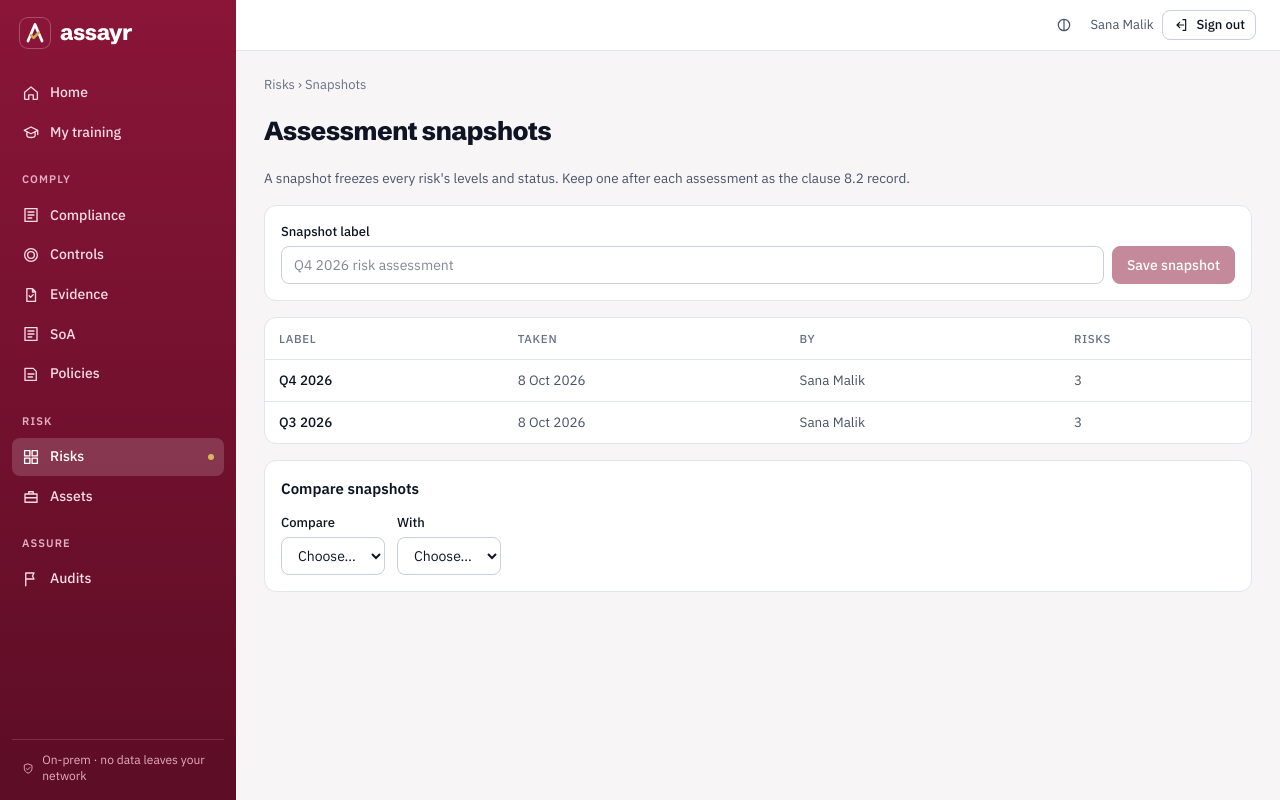
it: saves a snapshot and compares two
Type "Q1 2027" into the field labelled "Snapshot label".
click(692, 265); type("Q1 2027")  # box [281, 246, 1104, 284]
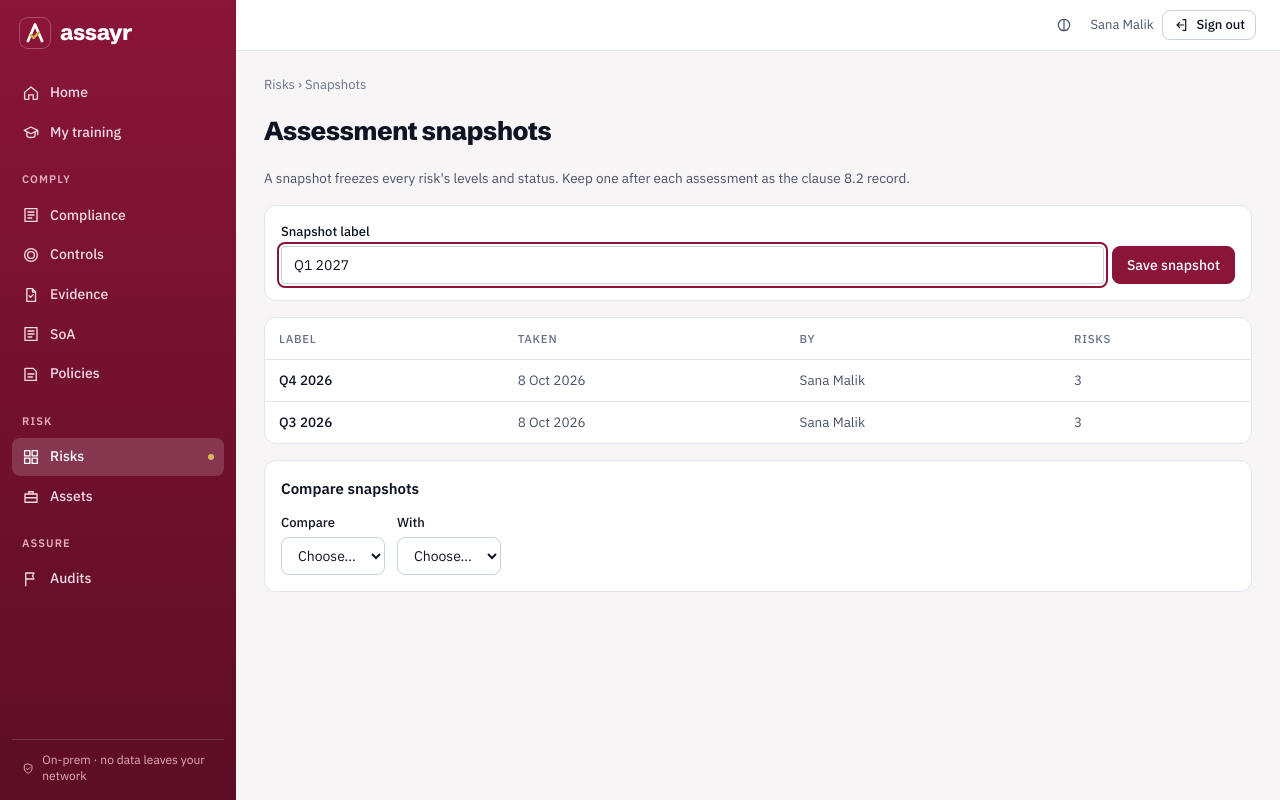
Click the button "Save snapshot".
click(1173, 265)  # box [1112, 246, 1235, 284]
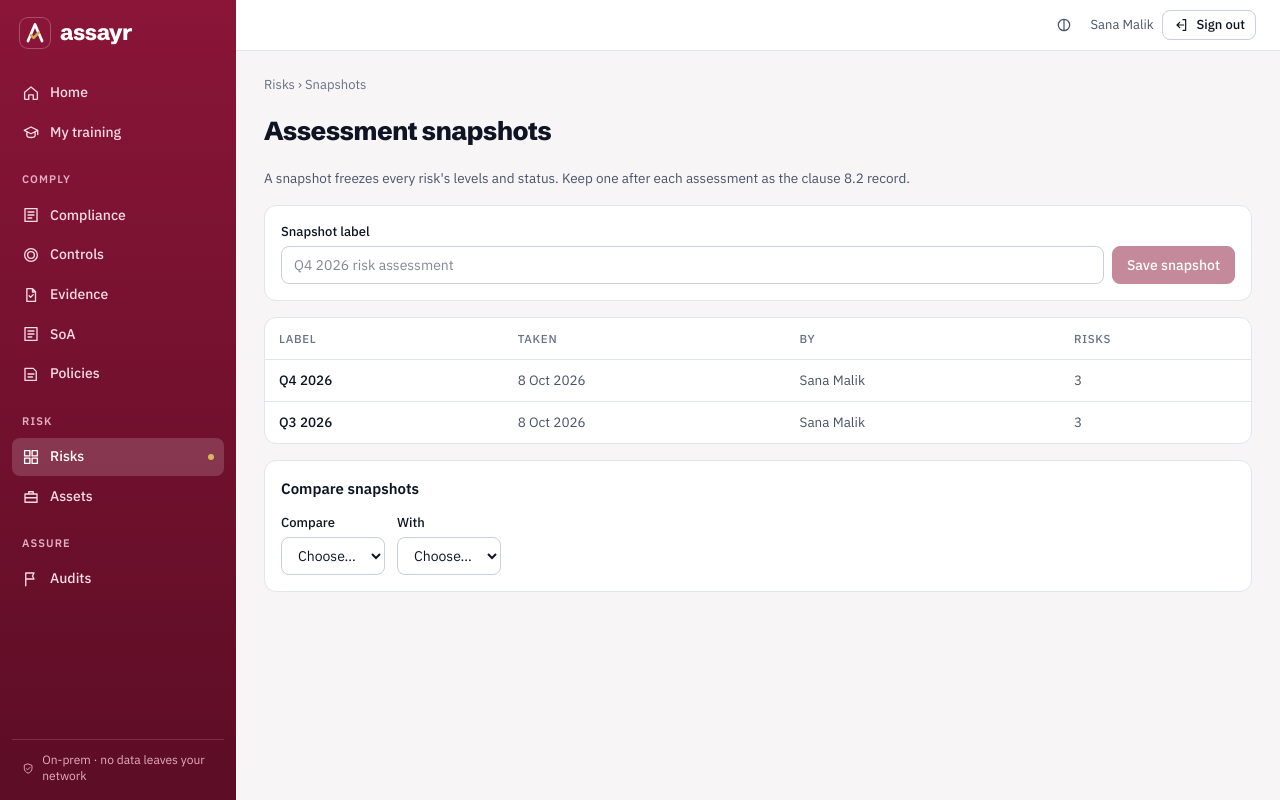
Select "Q3 2026" in the dropdown labelled "Compare" at (333, 556), box [281, 537, 385, 575]
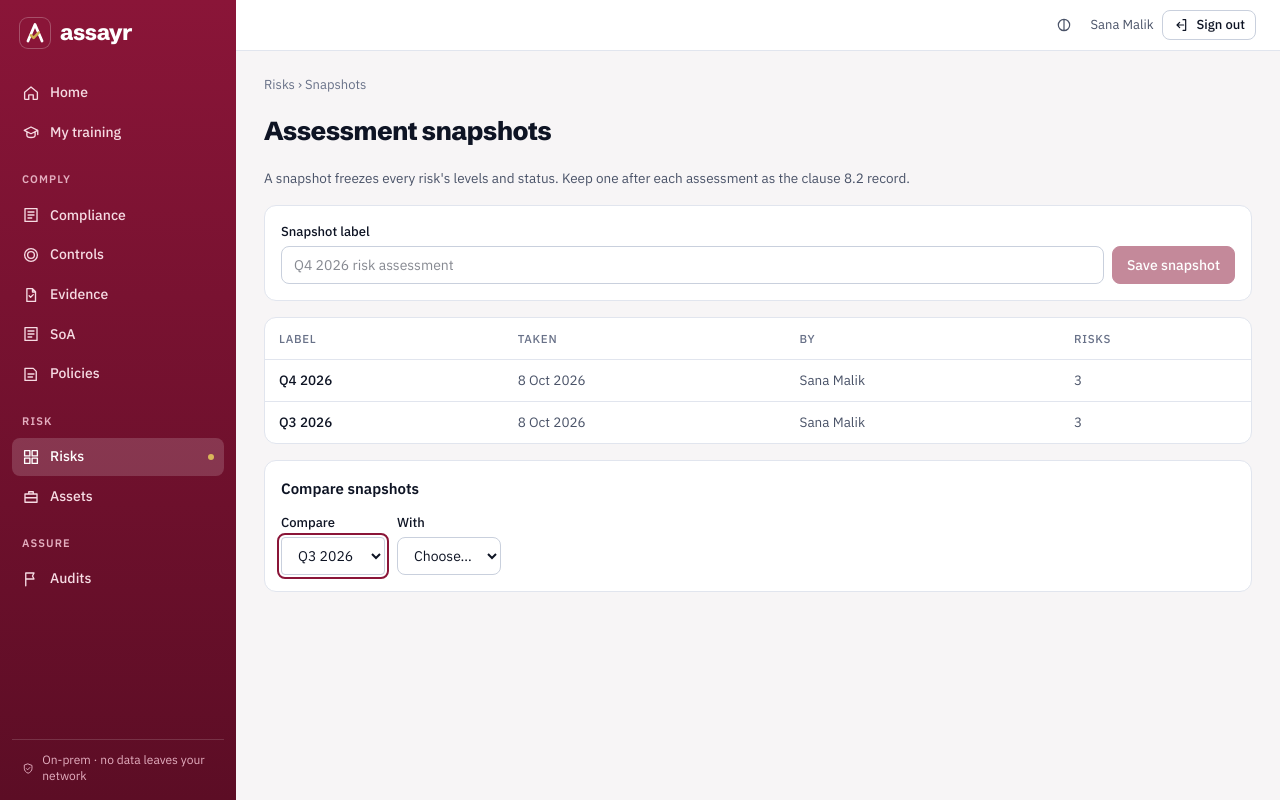
Select "Q4 2026" in the dropdown labelled "With" at (449, 556), box [397, 537, 501, 575]
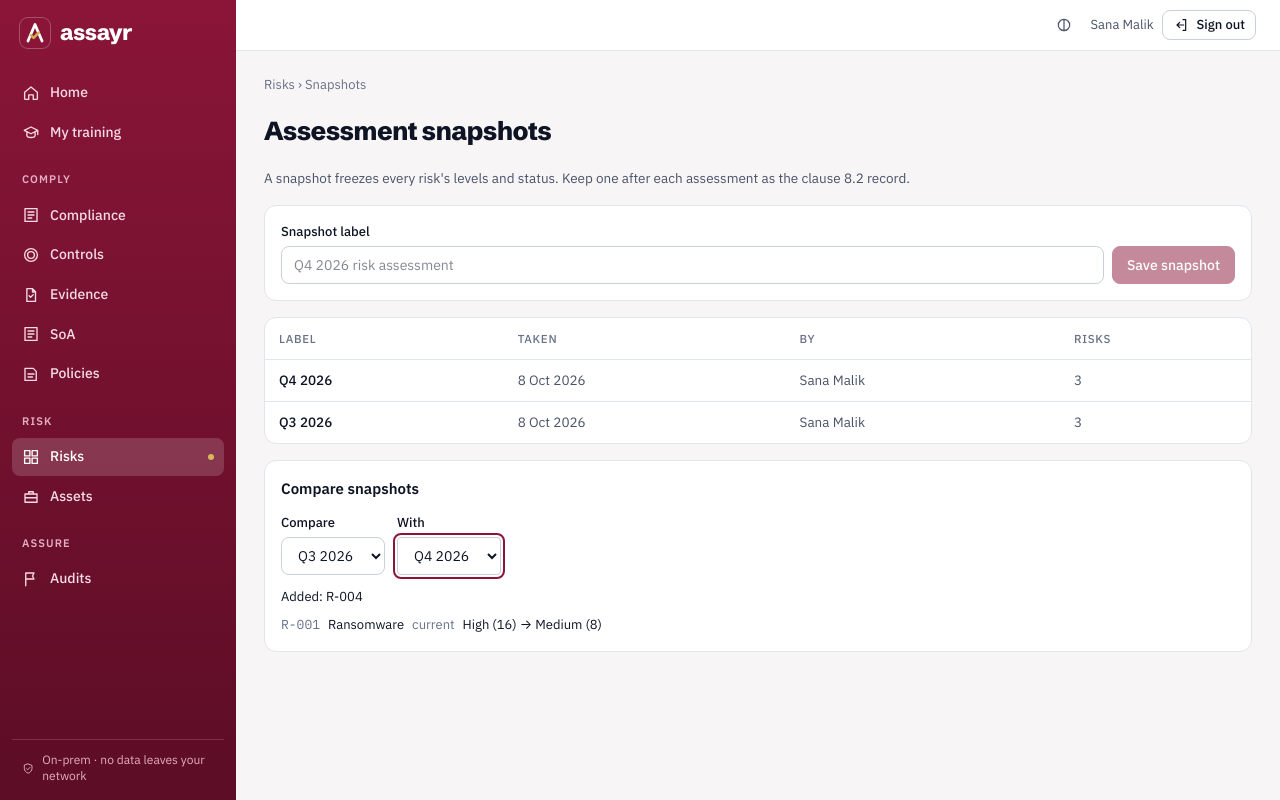
Now the text "High (16) → Medium (8)" is shown, box [463, 615, 602, 635]
Now the text "Added: R-004" is shown, box [281, 588, 363, 605]
